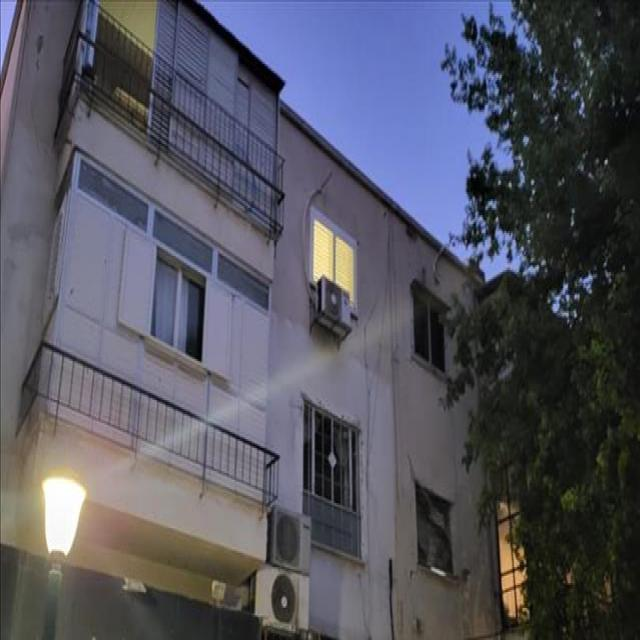Window: (150, 234, 207, 370), (303, 400, 363, 522), (310, 204, 360, 320), (412, 281, 448, 382), (415, 488, 453, 576)
